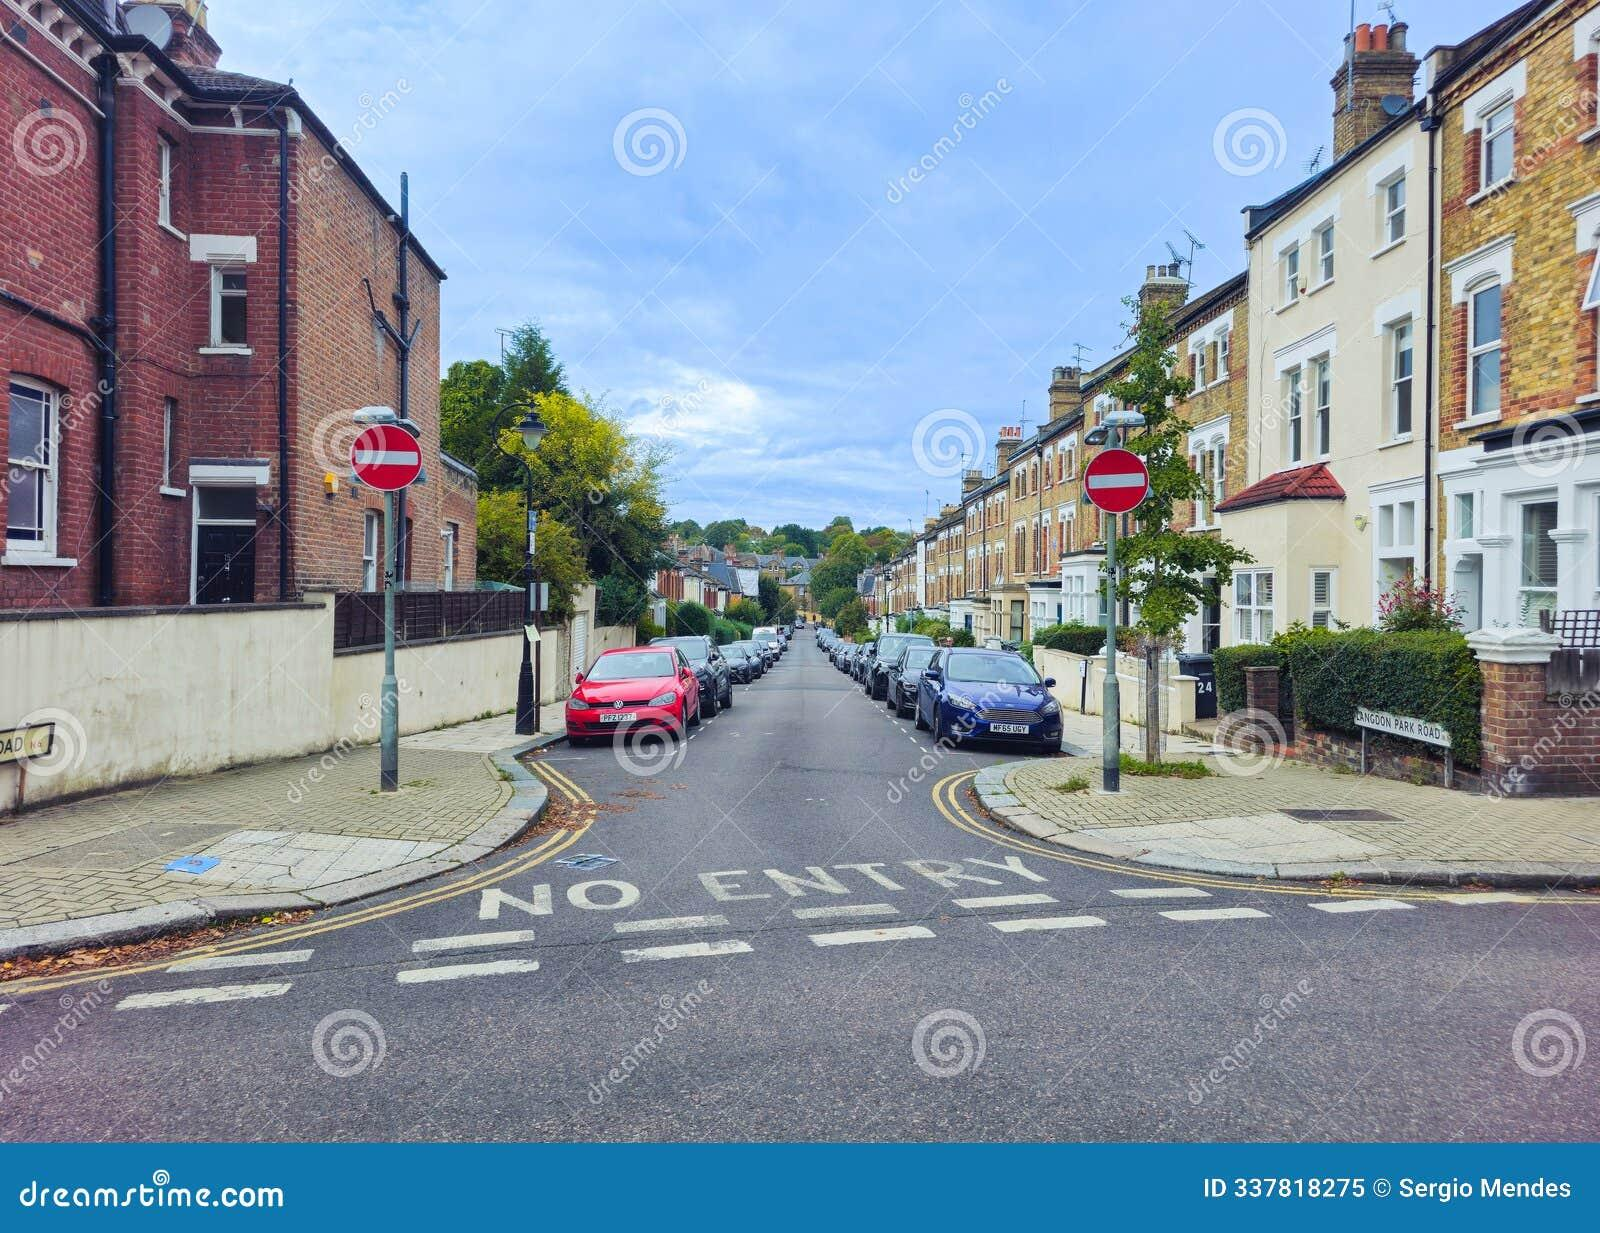stop-sign: (348, 426, 428, 493), (1086, 448, 1153, 517)
